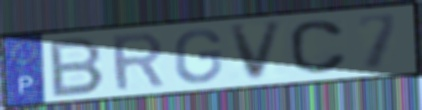7: (355, 11, 400, 73)
B: (48, 34, 108, 99)
C: (287, 18, 351, 76)
G: (173, 28, 224, 86)
R: (108, 30, 168, 94)
V: (226, 18, 287, 83)
